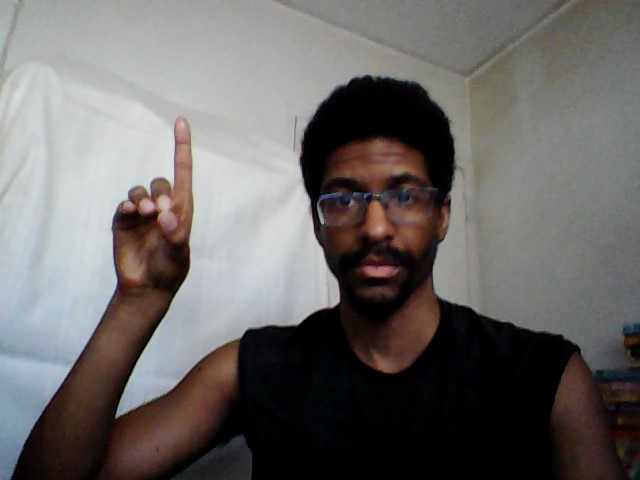d: (108, 114, 197, 295)
